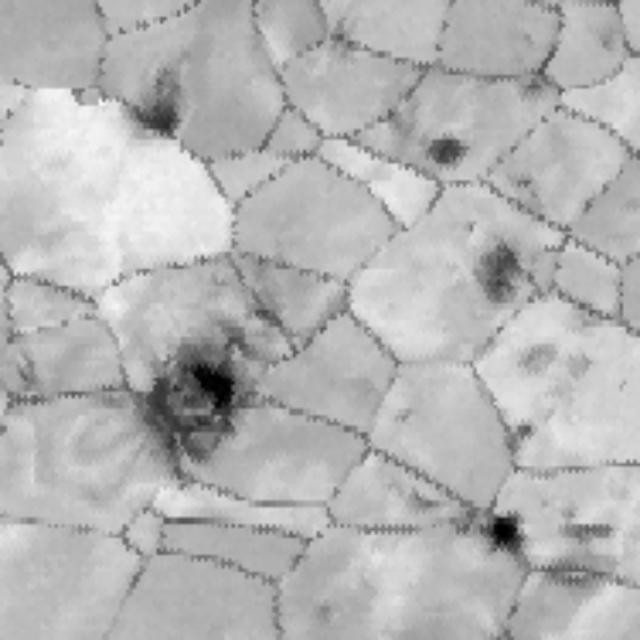good_void: (129, 335, 253, 498), (458, 233, 540, 317), (515, 339, 592, 420), (129, 91, 194, 148), (475, 510, 531, 562), (414, 127, 476, 172), (551, 506, 616, 542), (255, 309, 291, 335), (514, 420, 537, 442), (463, 220, 484, 238), (398, 406, 414, 425), (515, 177, 531, 192)
